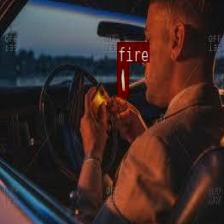fire: (116, 62, 127, 96)
